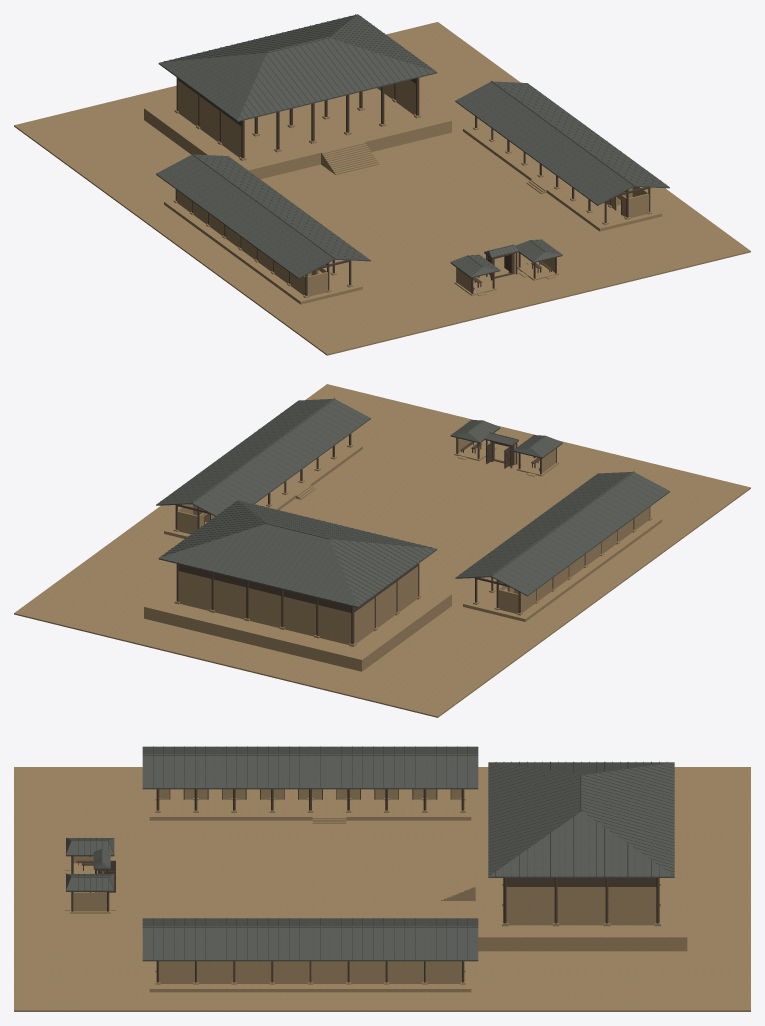
The model's file is palace-admission-court-open-LOD1.glb.
3 views of the same model, one above another, from view 1: azimuth 30°, elevation 25°; view 2: azimuth 150°, elevation 25°; view 3: azimuth 270°, elevation 25° (orthographic). The views are drawn at different scales.
Parts seen in each view (by area): view 1: new_court_support_C, hall__deyang-A-static_earth, hall__deyang-A-static_tile, west_gallery__sidehall-A-static_tile, east_gallery__sidehall-A-static_tile, east_gallery__sidehall-A-static_earth, west_gallery__sidehall-A-static_earth, guard__guard-slice-ground-earth, hall__deyang-A-static_timber, guard__guard-slice-west-tile, guard__guard-slice-east-tile, east_gallery__sidehall-A-static_timber (+1 smaller); view 2: new_court_support_C, hall__deyang-A-static_tile, hall__deyang-A-static_earth, west_gallery__sidehall-A-static_tile, east_gallery__sidehall-A-static_tile, west_gallery__sidehall-A-static_earth, guard__guard-slice-ground-earth, east_gallery__sidehall-A-static_earth, hall__deyang-A-static_timber, guard__guard-slice-west-tile, guard__guard-slice-east-tile, guard__guard-slice-west-earth; view 3: new_court_support_C, hall__deyang-A-static_tile, hall__deyang-A-static_earth, east_gallery__sidehall-A-static_tile, west_gallery__sidehall-A-static_tile, east_gallery__sidehall-A-static_earth, west_gallery__sidehall-A-static_earth, guard__guard-slice-ground-earth, hall__deyang-A-static_timber, west_gallery__sidehall-A-static_timber, guard__guard-slice-east-tile, guard__guard-slice-east-earth (+2 smaller).
Boxes of the visible parts, x1,y1,x2,y2 form: new_court_support_C: [14, 22, 750, 355]; hall__deyang-A-static_earth: [144, 80, 451, 179]; hall__deyang-A-static_tile: [158, 14, 437, 121]; west_gallery__sidehall-A-static_tile: [156, 153, 370, 278]; east_gallery__sidehall-A-static_tile: [455, 80, 669, 205]; east_gallery__sidehall-A-static_earth: [463, 123, 662, 231]; west_gallery__sidehall-A-static_earth: [164, 190, 362, 304]; guard__guard-slice-ground-earth: [419, 252, 593, 312]; hall__deyang-A-static_timber: [176, 77, 419, 158]; guard__guard-slice-west-tile: [450, 254, 500, 277]; guard__guard-slice-east-tile: [515, 239, 562, 262]; east_gallery__sidehall-A-static_timber: [475, 116, 650, 222]; new_court_support_C: [14, 384, 750, 717]; hall__deyang-A-static_tile: [158, 500, 437, 607]; hall__deyang-A-static_earth: [144, 566, 451, 671]; west_gallery__sidehall-A-static_tile: [455, 471, 669, 596]; east_gallery__sidehall-A-static_tile: [156, 398, 370, 516]; west_gallery__sidehall-A-static_earth: [463, 507, 662, 621]; guard__guard-slice-ground-earth: [419, 432, 593, 492]; east_gallery__sidehall-A-static_earth: [164, 441, 362, 538]; hall__deyang-A-static_timber: [176, 563, 419, 644]; guard__guard-slice-west-tile: [513, 435, 562, 457]; guard__guard-slice-east-tile: [450, 420, 500, 442]; guard__guard-slice-west-earth: [516, 449, 558, 476]; new_court_support_C: [14, 767, 750, 1011]; hall__deyang-A-static_tile: [488, 761, 674, 877]; hall__deyang-A-static_earth: [441, 812, 687, 951]; east_gallery__sidehall-A-static_tile: [142, 918, 478, 961]; west_gallery__sidehall-A-static_tile: [142, 746, 478, 789]; east_gallery__sidehall-A-static_earth: [149, 961, 471, 992]; west_gallery__sidehall-A-static_earth: [149, 789, 471, 823]; guard__guard-slice-ground-earth: [31, 852, 149, 924]; hall__deyang-A-static_timber: [503, 878, 659, 923]; west_gallery__sidehall-A-static_timber: [156, 789, 464, 810]; guard__guard-slice-east-tile: [66, 873, 114, 891]; guard__guard-slice-east-earth: [64, 892, 115, 913].
Bounding box in the file's own units: 68 × 12.74 × 87.
9 materials, 9 textured.
